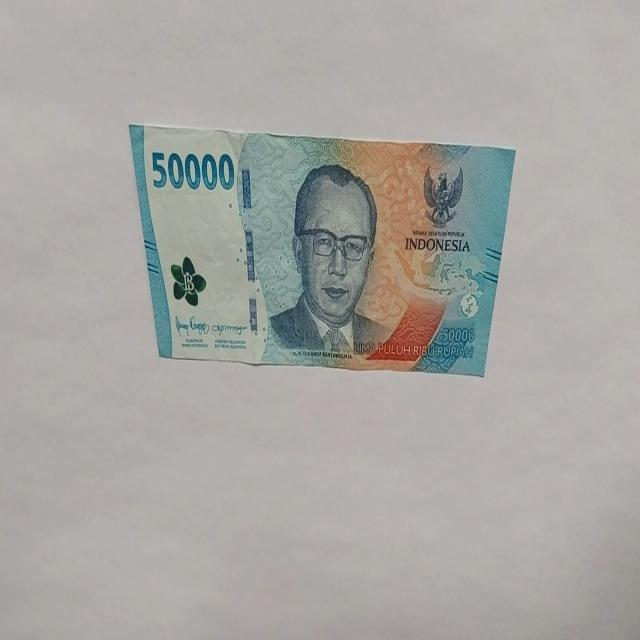lima puluh ribu rupiah: (128, 121, 516, 377), (264, 162, 390, 360), (150, 147, 236, 193)
